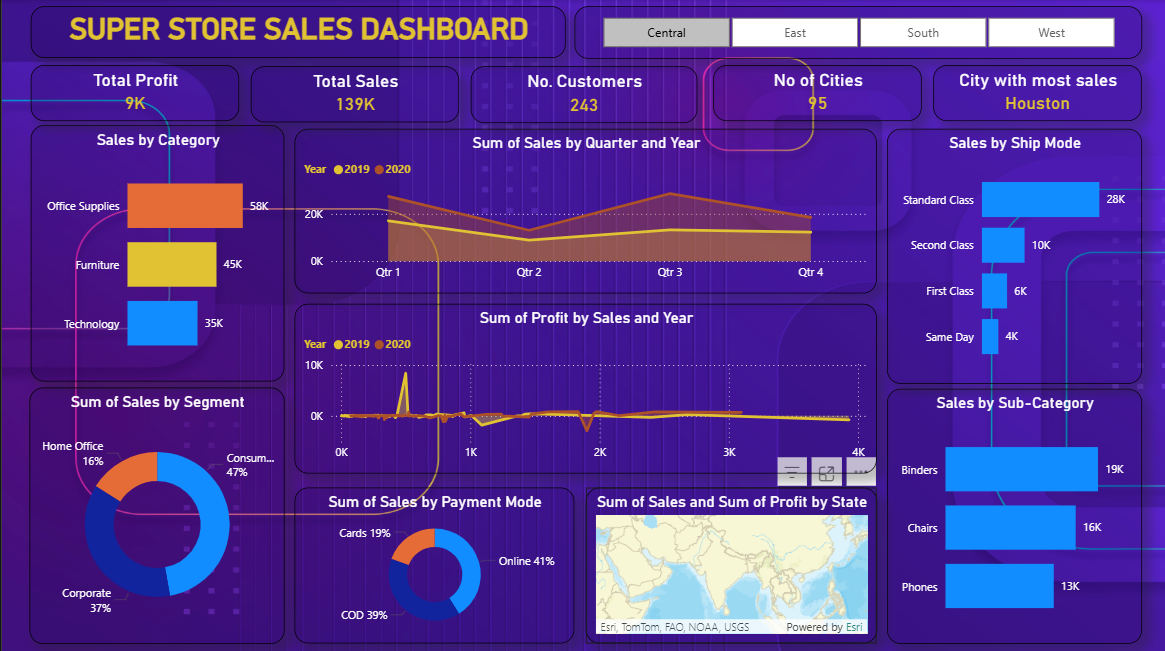

Layout of this report page (visuals, bound fields, positions):
{"tool":"powerbi","page":{"name":"Page 1","canvas":[1280,720],"ordinal":0},"visuals":[{"type":"clusteredBarChart","title":"Sales by Category","fields":{"Category":["SuperStore_Sales_Dataset.Category"],"Y":["Sum(SuperStore_Sales_Dataset.Sales)"]},"box":[31.6,137.2,278.6,281.3],"z":0},{"type":"clusteredBarChart","title":"Sales by Sub-Category","fields":{"Y":["Sum(SuperStore_Sales_Dataset.Sales)"],"Category":["SuperStore_Sales_Dataset.Sub-Category"]},"box":[971.5,426.8,279.9,279.9],"z":1000},{"type":"clusteredBarChart","title":"Sales by Ship Mode","fields":{"Y":["Sum(SuperStore_Sales_Dataset.Sales)"],"Category":["SuperStore_Sales_Dataset.Ship Mode"]},"box":[971.5,141.3,279.9,279.9],"z":2000},{"type":"areaChart","fields":{"Y":["Sum(SuperStore_Sales_Dataset.Sales)"],"Category":["SuperStore_Sales_Dataset.Order Date.Variation.Date Hierarchy.Quarter"],"Series":["SuperStore_Sales_Dataset.Order Date.Variation.Date Hierarchy.Year"]},"box":[321.1,141.3,639.5,181.1],"z":3000},{"type":"esriVisual","fields":{"Location":["SuperStore_Sales_Dataset.State"],"Size":["Sum(SuperStore_Sales_Dataset.Sales)"],"Color":["Sum(SuperStore_Sales_Dataset.Profit)"]},"box":[640.8,535.2,319.7,171.5],"z":4000},{"type":"donutChart","fields":{"Category":["SuperStore_Sales_Dataset.Segment"],"Y":["Sum(SuperStore_Sales_Dataset.Sales)"]},"box":[30.2,425.4,279.9,281.3],"z":5000},{"type":"donutChart","fields":{"Y":["Sum(SuperStore_Sales_Dataset.Sales)"],"Category":["SuperStore_Sales_Dataset.Payment Mode"]},"box":[321.1,535.2,307.4,171.5],"z":6000},{"type":"slicer","fields":{"Values":["SuperStore_Sales_Dataset.Region"]},"box":[628.5,6.9,623,57.6],"z":7000},{"type":"textbox","title":"SUPER STORE SALES DASHBOARD","box":[32,7,587.1,57],"z":8000},{"type":"areaChart","fields":{"Y":["Sum(SuperStore_Sales_Dataset.Profit)"],"Category":["SuperStore_Sales_Dataset.Sales"],"Series":["SuperStore_Sales_Dataset.Order Date.Variation.Date Hierarchy.Year"]},"box":[321.1,333.4,639.5,186.6],"z":9000},{"type":"card","title":"Total Profit","fields":{"Values":["Sum(SuperStore_Sales_Dataset.Profit)"]},"box":[31.6,71.4,229.2,61.7],"z":10000},{"type":"card","title":"Total Sales","fields":{"Values":["Sum(SuperStore_Sales_Dataset.Sales)"]},"box":[273.1,72.7,229.2,61.7],"z":11000},{"type":"card","title":"No. Customers","fields":{"Values":["SuperStore_Sales_Dataset.Distibct customers"]},"box":[514.8,72.3,249,62.6],"z":12000},{"type":"card","title":"No of Cities","fields":{"Values":["SuperStore_Sales_Dataset.Distinct Cities"]},"box":[780.8,71.4,229.2,61.7],"z":13000},{"type":"card","title":"City with most sales","fields":{"Values":["Min(SuperStore_Sales_Dataset.City)"]},"box":[1022.3,71.4,229.2,61.7],"z":14000}]}

Visuals, with their boxes in screenshot pixels (x1, y1, x2, y2), scaled from the page's 1280x720 canvas onto the 1165x651 screenshot:
"Sales by Category" clusteredBarChart: 29,124,282,378
"Sales by Sub-Category" clusteredBarChart: 884,386,1139,639
"Sales by Ship Mode" clusteredBarChart: 884,128,1139,381
areaChart - Sum(SuperStore_Sales_Dataset.Sales) x SuperStore_Sales_Dataset.Order Date.Variation.Date Hierarchy.Quarter: 292,128,874,292
esriVisual - SuperStore_Sales_Dataset.State x Sum(SuperStore_Sales_Dataset.Sales): 583,484,874,639
donutChart - SuperStore_Sales_Dataset.Segment x Sum(SuperStore_Sales_Dataset.Sales): 27,385,282,639
donutChart - Sum(SuperStore_Sales_Dataset.Sales) x SuperStore_Sales_Dataset.Payment Mode: 292,484,572,639
slicer - SuperStore_Sales_Dataset.Region: 572,6,1139,58
"SUPER STORE SALES DASHBOARD" textbox: 29,6,563,58
areaChart - Sum(SuperStore_Sales_Dataset.Profit) x SuperStore_Sales_Dataset.Sales: 292,301,874,470
"Total Profit" card: 29,65,237,120
"Total Sales" card: 249,66,457,122
"No. Customers" card: 469,65,695,122
"No of Cities" card: 711,65,919,120
"City with most sales" card: 930,65,1139,120
